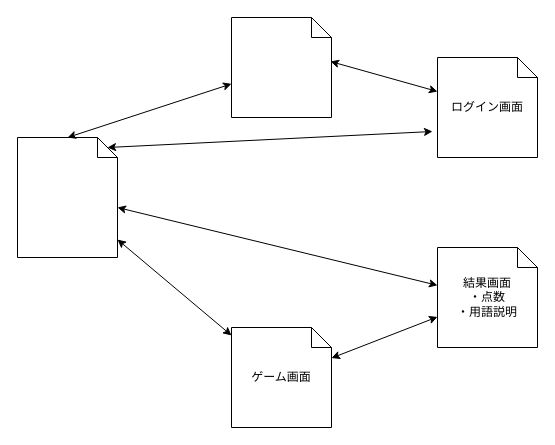
Some shapes in this 555 by 445 pixel diagram are drawn without their labels. The shapes that lost their labels are listed below. From the top down, each one's centre as x and y in pixels, then its label:
At [281,67]: "ユーザー新規登録画面".
At [67,197]: "ユーザーのスコア履歴画面 （トップページ）".
